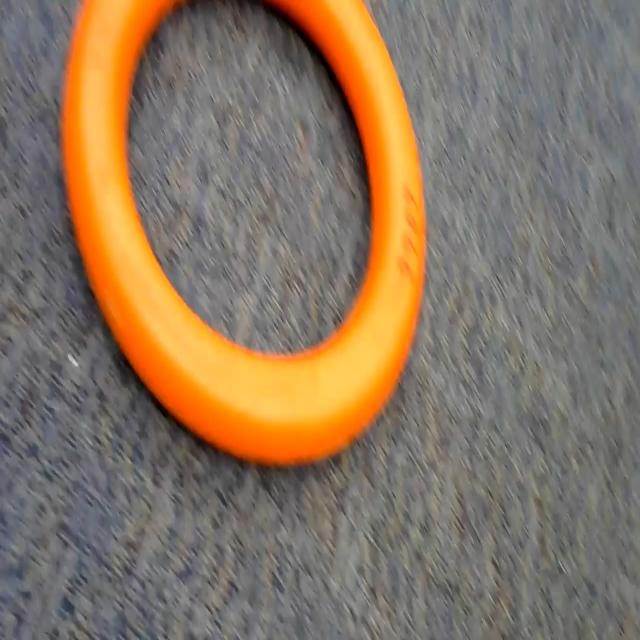note: (57, 0, 430, 494)
